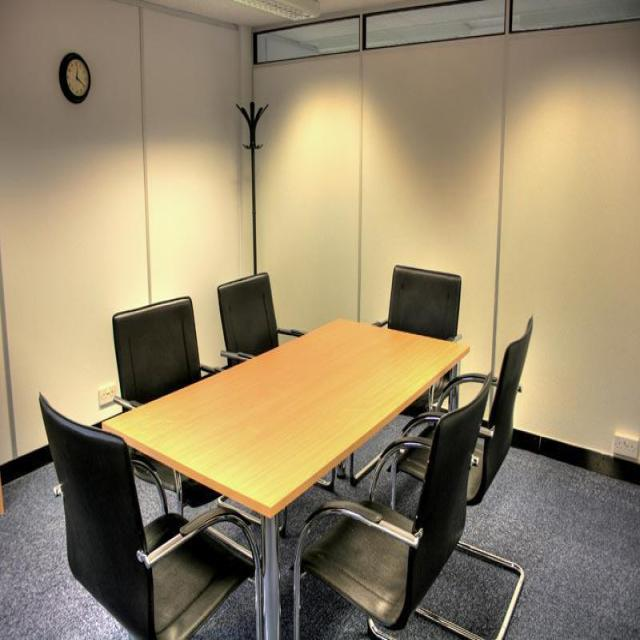other: (302, 110, 378, 176), (368, 360, 442, 405)
